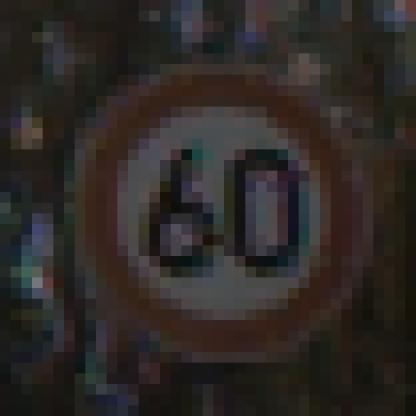Speed Limit 60: (78, 71, 356, 353)
